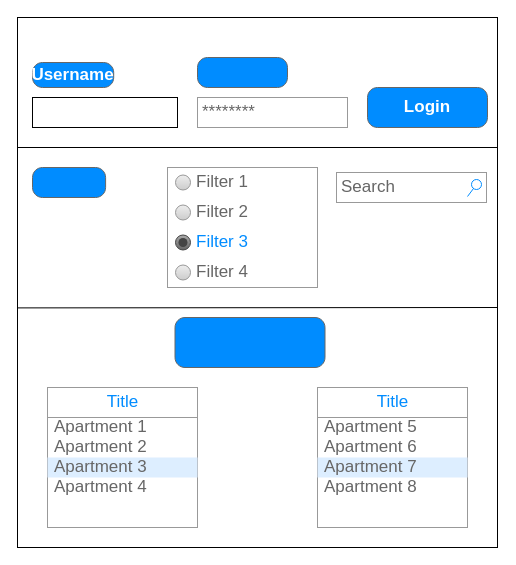
Some shapes in this 516 by 565 pixel diagram are drawn without their labels. The centre of each missing label's shape, as x and y in pixels:
Enter Username...: [105,112]
Filter: [69,182]
List of apartments: [249,342]
Password: [242,72]
